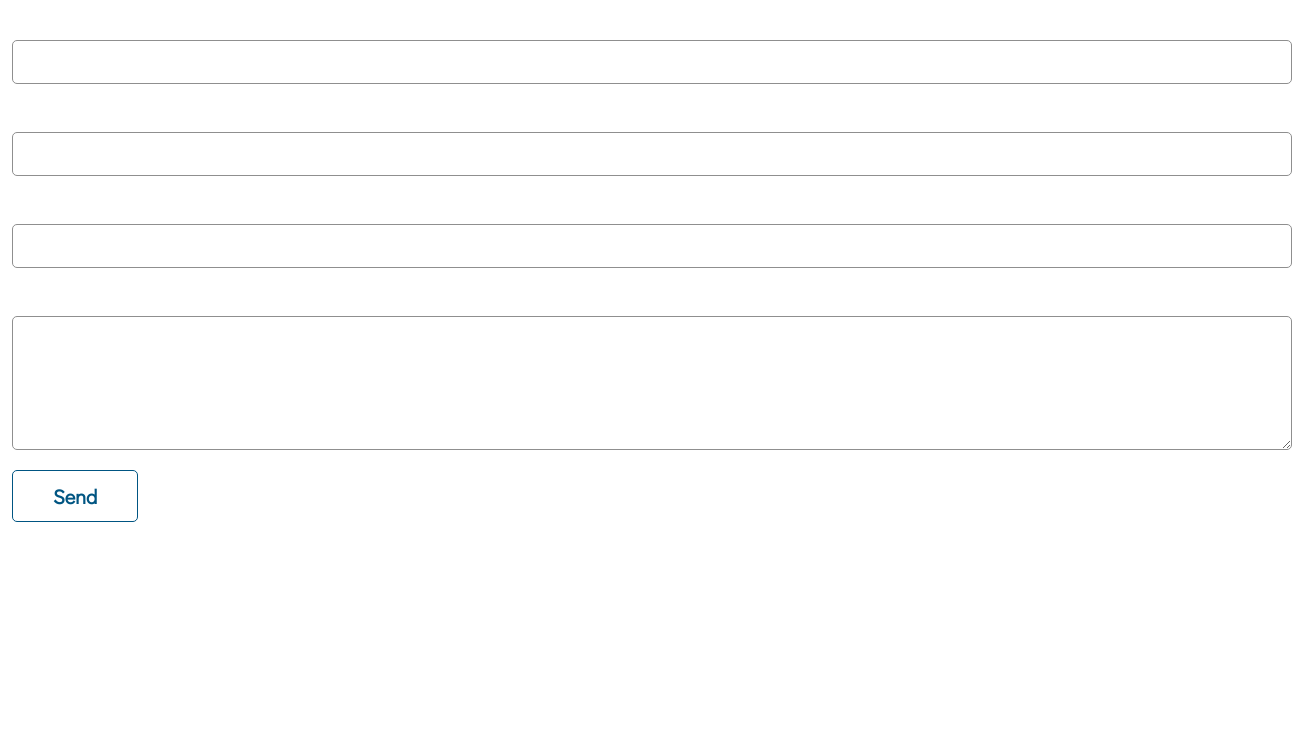
it: validation › rejects a malformed email even when every field has something in it
In the field labelled "First Name": (652,62) [12,40,1292,84], type "Ana"
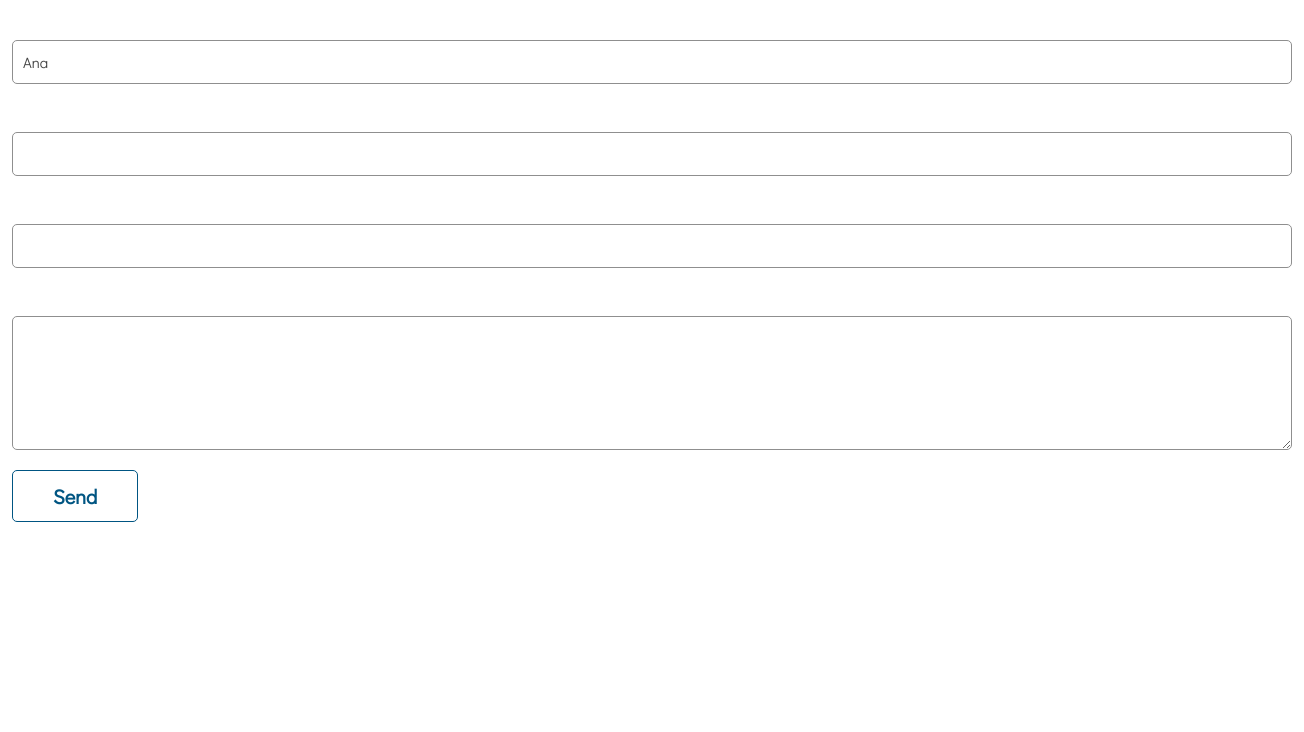
In the field labelled "Last Name": (652,154) [12,132,1292,176], type "Petrova"
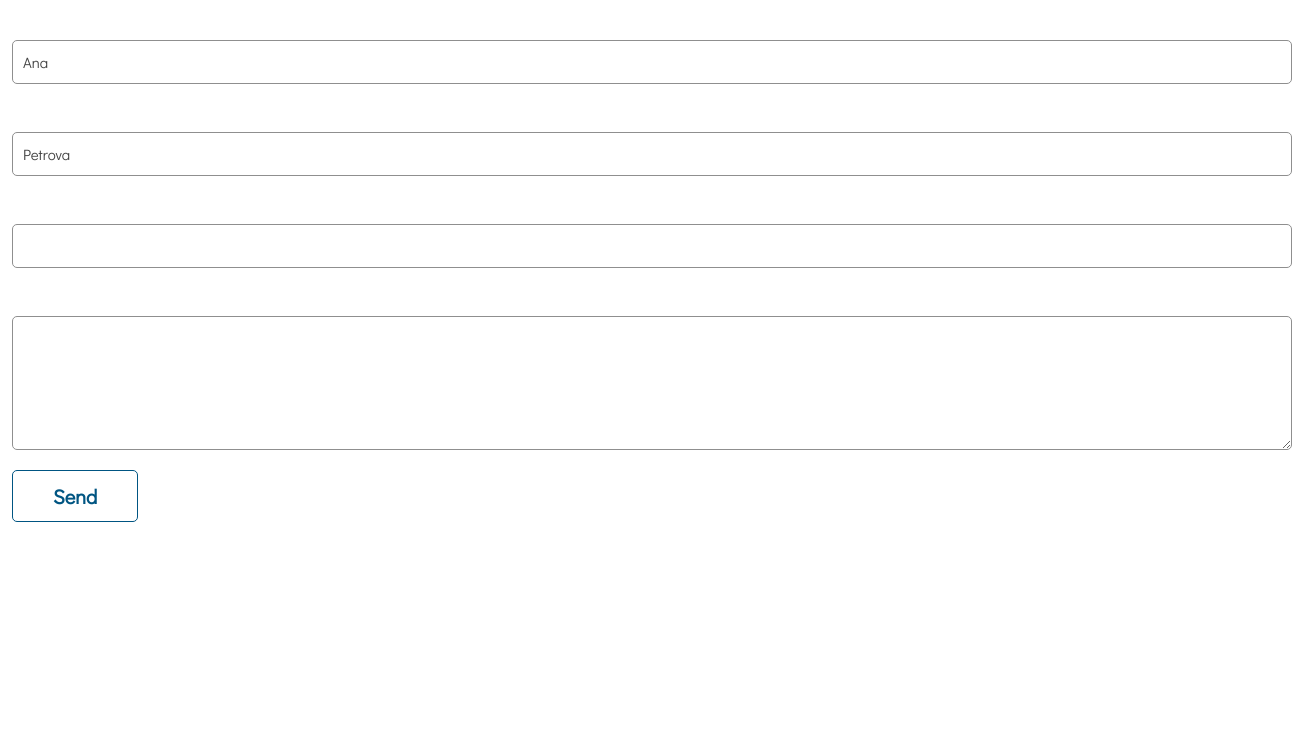
In the field with id "field-email": (652,246) [12,224,1292,268], type "ana@example"
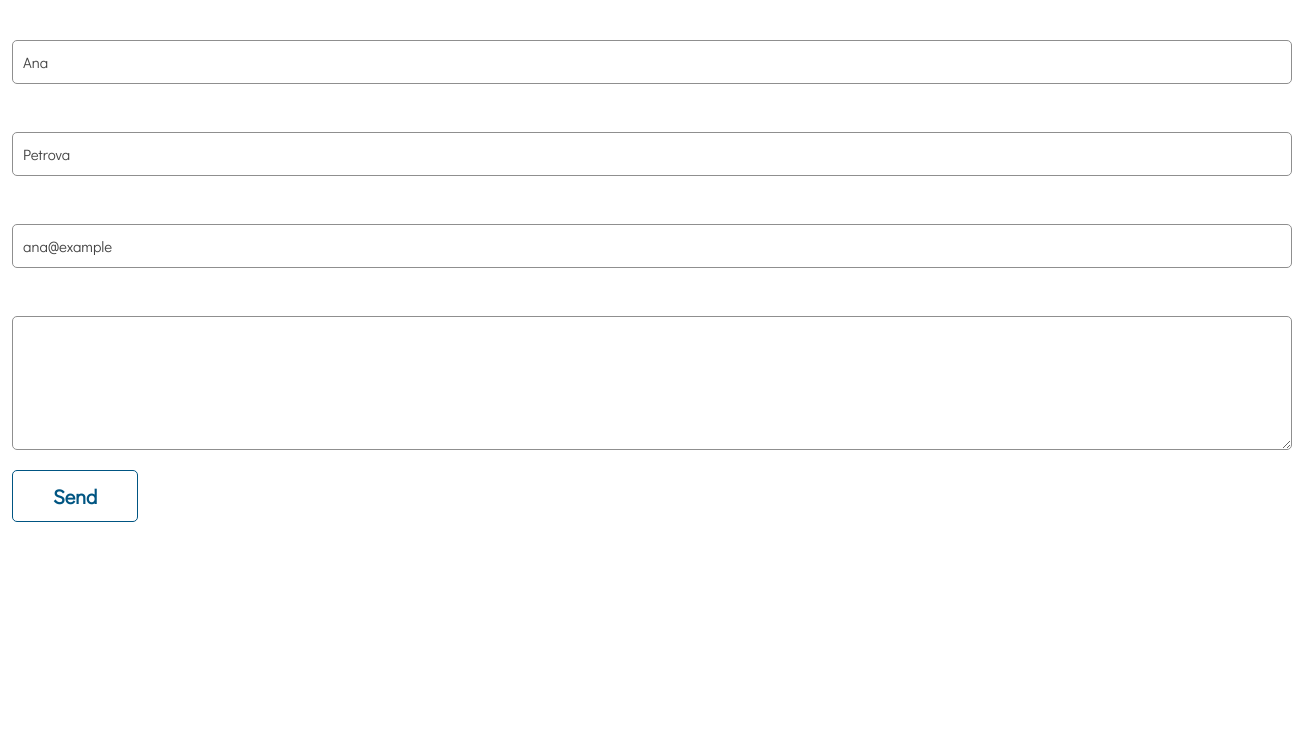
In the text box labelled "Your Message": (652,383) [12,316,1292,450], type "Hello"
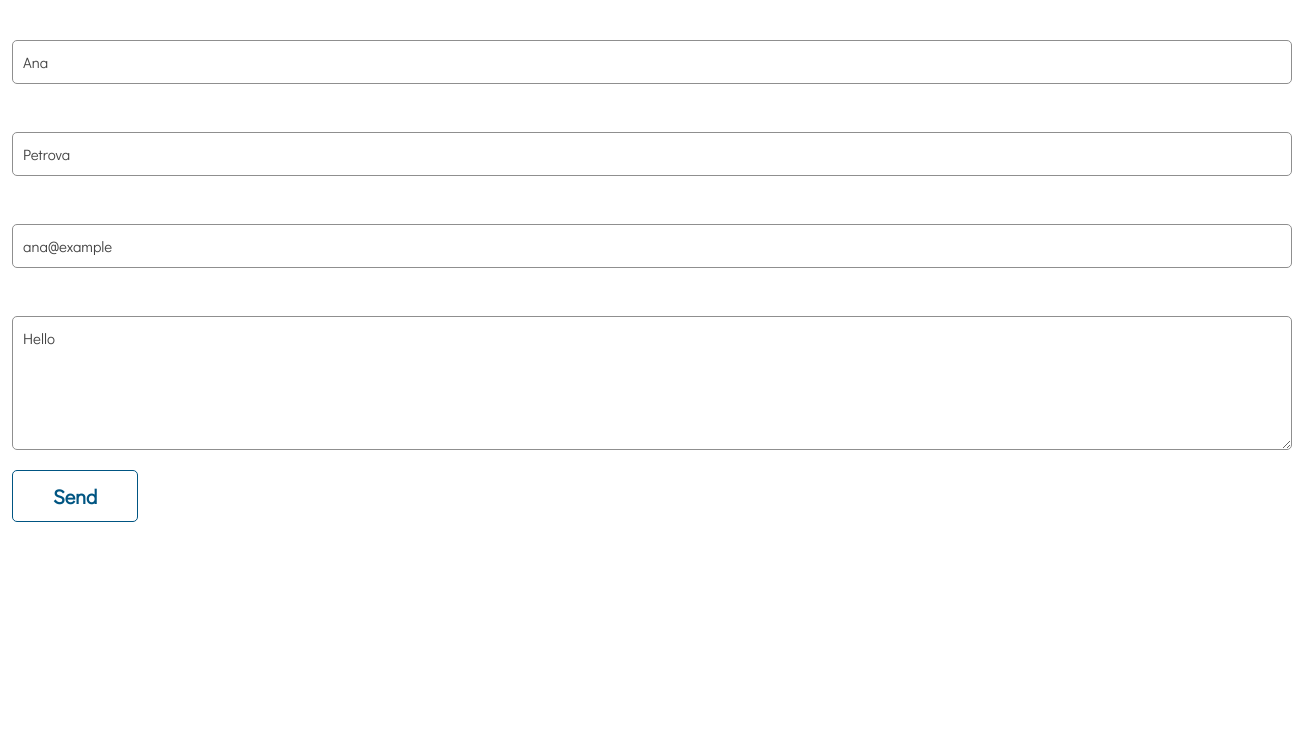
Submit the form
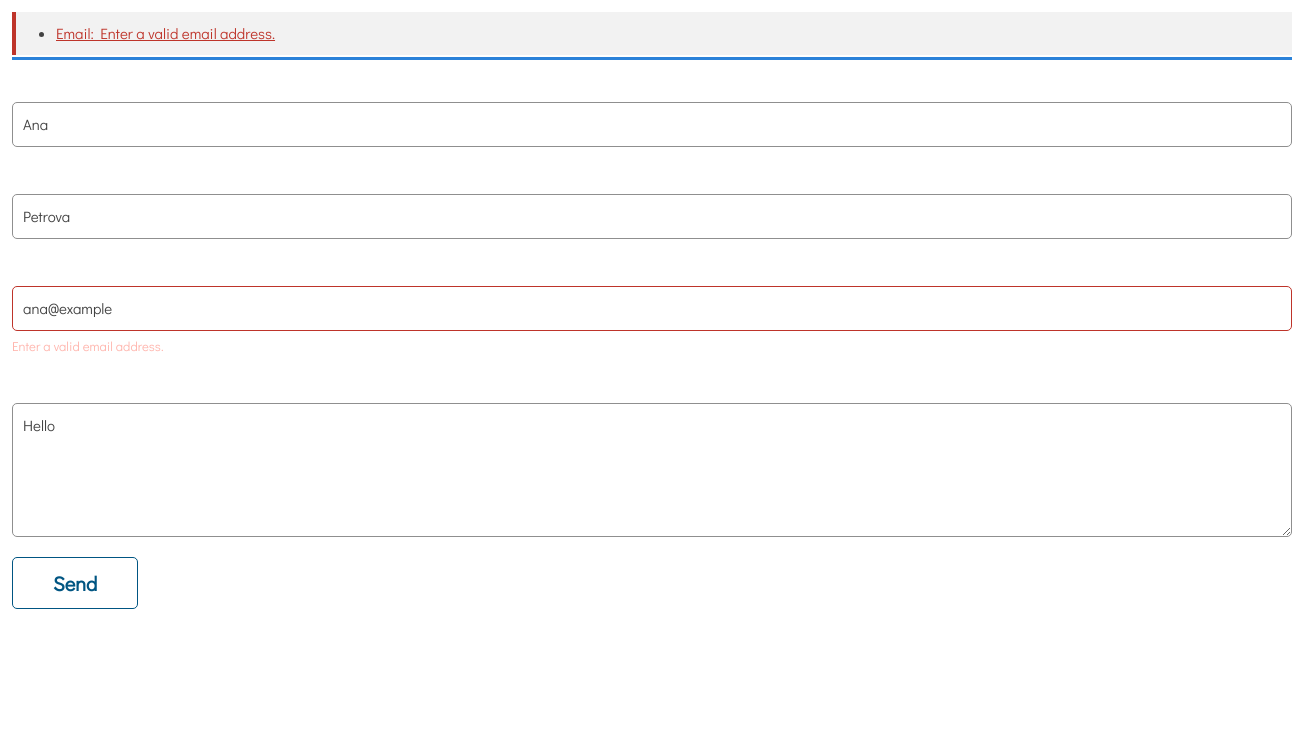
Expected: the text "Enter a valid email address." is shown, [12,336,164,354]
